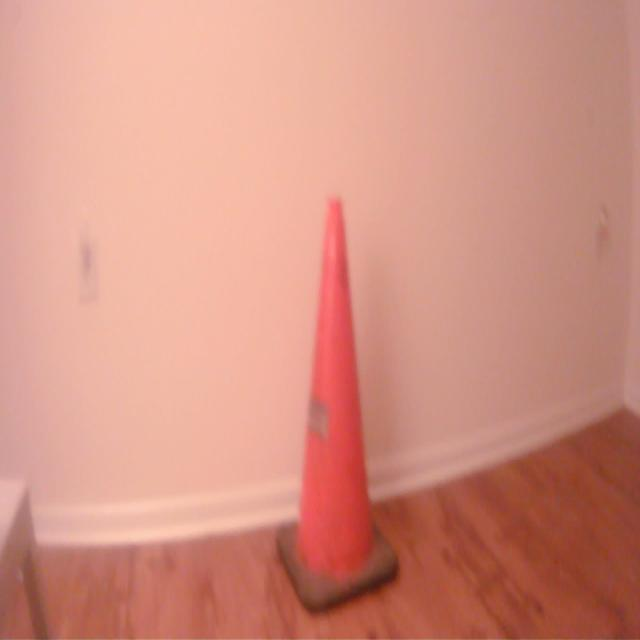traffic cone: (272, 190, 405, 621)
